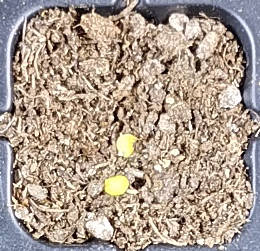chilli seed: (115, 132, 138, 157), (104, 175, 129, 195)
